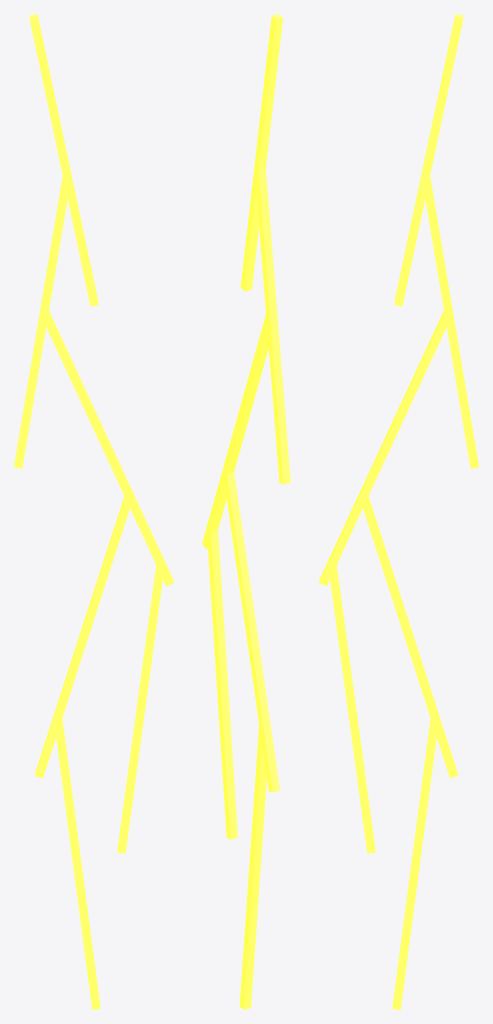
The model's file is thunderbolt_1.glb.
3 renders of one model, left to right at view 1: azimuth 90°, elevation 25°; view 2: azimuth 210°, elevation 25°; view 3: azimuth 270°, elevation 25°, orthographic. The views are drawn at different scales.
Parts seen in each view (by area): view 1: Cube.002, Cube.003, Cube, Cube.005, Cube.004, Cube.001; view 2: Cube.003, Cube.001, Cube.005, Cube.004, Cube, Cube.002; view 3: Cube.002, Cube.003, Cube, Cube.001, Cube.005, Cube.004.
Part boxes in pixels (bbox=[...]): Cube.002: bbox=[42, 311, 173, 585]; Cube.003: bbox=[35, 495, 133, 778]; Cube: bbox=[29, 14, 98, 306]; Cube.005: bbox=[117, 559, 165, 853]; Cube.004: bbox=[55, 718, 100, 1009]; Cube.001: bbox=[14, 176, 70, 468]; Cube.003: bbox=[224, 471, 279, 792]; Cube.001: bbox=[255, 168, 290, 484]; Cube.005: bbox=[206, 525, 237, 839]; Cube.004: bbox=[239, 724, 266, 1009]; Cube: bbox=[240, 14, 282, 291]; Cube.002: bbox=[202, 315, 268, 548]; Cube.002: bbox=[319, 311, 448, 585]; Cube.003: bbox=[359, 496, 457, 778]; Cube: bbox=[394, 14, 463, 306]; Cube.001: bbox=[422, 176, 478, 468]; Cube.005: bbox=[327, 559, 375, 853]; Cube.004: bbox=[392, 718, 438, 1009].
Size of the model in its own units: 0.3106 by 41.58 by 6.05.
